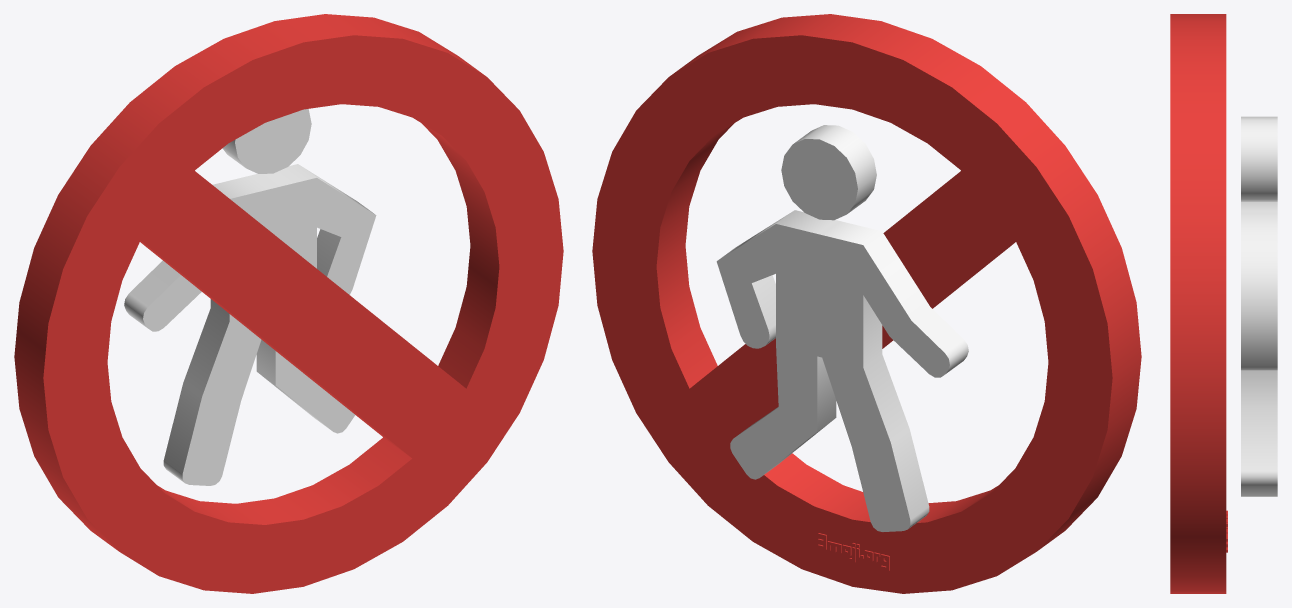
The model's file is no_pedestrians.glb.
3 renders of one model, left to right at view 1: azimuth 30°, elevation 25°; view 2: azimuth 150°, elevation 25°; view 3: azimuth 270°, elevation 25°, orthographic. The views are drawn at different scales.
Parts seen in each view (by area): view 1: Circle.2625; view 2: Circle.2625; view 3: Circle.2625.
Boxes of the visible parts, x1,y1,x2,y2 form: Circle.2625: (14,14,563,593); Circle.2625: (592,14,1141,593); Circle.2625: (1170,14,1277,593).
Bounding box in the file's own units: 1.92 × 1.92 × 0.3551.
1 material, 1 textured.
